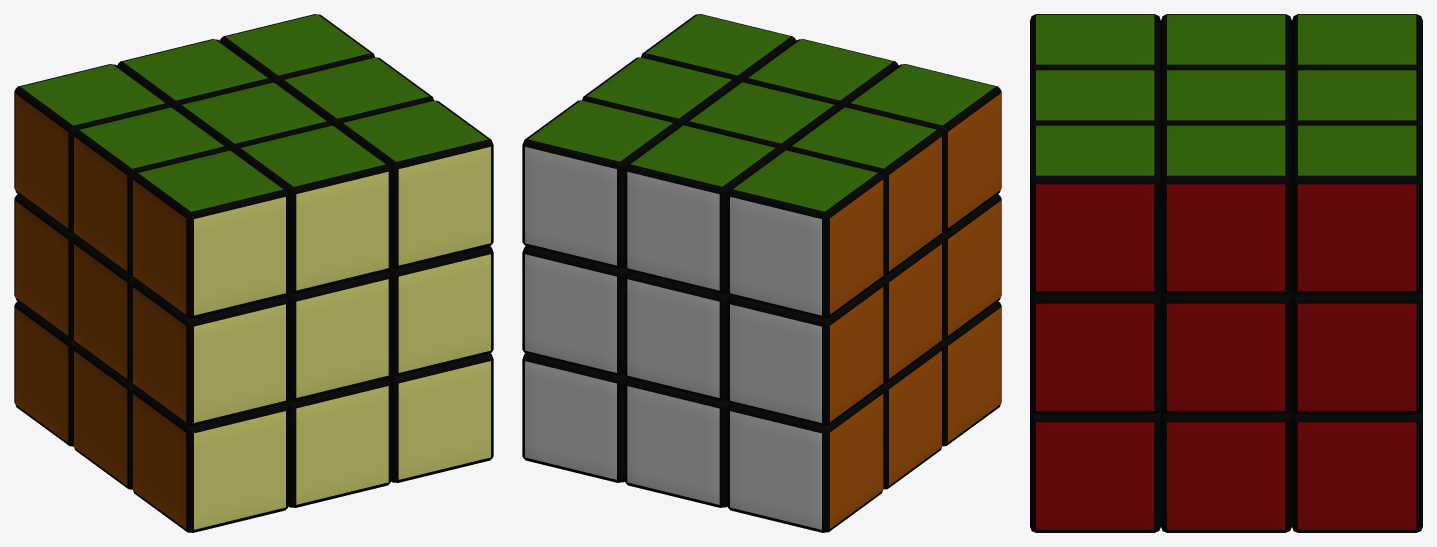
File: RubixCubeFBX.fbx
3 views of the same model, side by side, from view 1: azimuth 30°, elevation 25°; view 2: azimuth 150°, elevation 25°; view 3: azimuth 270°, elevation 25° (orthographic). The views are drawn at different scales.
Parts seen in each view (by area): view 1: pCube3 (×3), pCube5 (×3), pCube7 (×3), pCube4 (×3), pCube2 (×3), Midle, pCube6, pCube8, pCube9; view 2: pCube4 (×3), pCube6 (×3), pCube9 (×3), pCube2 (×3), pCube3 (×3), pCube5, Midle, pCube8, pCube7; view 3: pCube2 (×3), pCube3 (×3), pCube4 (×3), Midle, pCube5, pCube6, pCube7, pCube8, pCube9.
Boxes of the visible parts, left/top/right/bottom form: pCube3 (×3): left=132, top=100, right=493, bottom=318; pCube5 (×3): left=132, top=246, right=493, bottom=425; pCube7 (×3): left=132, top=353, right=493, bottom=532; pCube4 (×3): left=14, top=14, right=374, bottom=232; pCube2 (×3): left=73, top=57, right=433, bottom=275; Midle: left=73, top=237, right=135, bottom=382; pCube6: left=14, top=194, right=76, bottom=339; pCube8: left=73, top=344, right=134, bottom=489; pCube9: left=14, top=301, right=75, bottom=446; pCube4 (×3): left=522, top=100, right=883, bottom=318; pCube6 (×3): left=522, top=246, right=883, bottom=425; pCube9 (×3): left=522, top=353, right=883, bottom=532; pCube2 (×3): left=582, top=57, right=942, bottom=274; pCube3 (×3): left=641, top=14, right=1001, bottom=231; pCube5: left=939, top=194, right=1001, bottom=339; Midle: left=880, top=237, right=942, bottom=382; pCube8: left=881, top=344, right=942, bottom=489; pCube7: left=940, top=301, right=1001, bottom=446; pCube2 (×3): left=1161, top=14, right=1291, bottom=294; pCube3 (×3): left=1030, top=14, right=1160, bottom=294; pCube4 (×3): left=1292, top=14, right=1422, bottom=294; Midle: left=1161, top=289, right=1291, bottom=414; pCube5: left=1030, top=289, right=1160, bottom=414; pCube6: left=1292, top=289, right=1422, bottom=414; pCube7: left=1030, top=408, right=1160, bottom=532; pCube8: left=1161, top=408, right=1291, bottom=532; pCube9: left=1292, top=408, right=1422, bottom=532.
Bounding box in the file's own units: 3.01 × 3.01 × 3.
